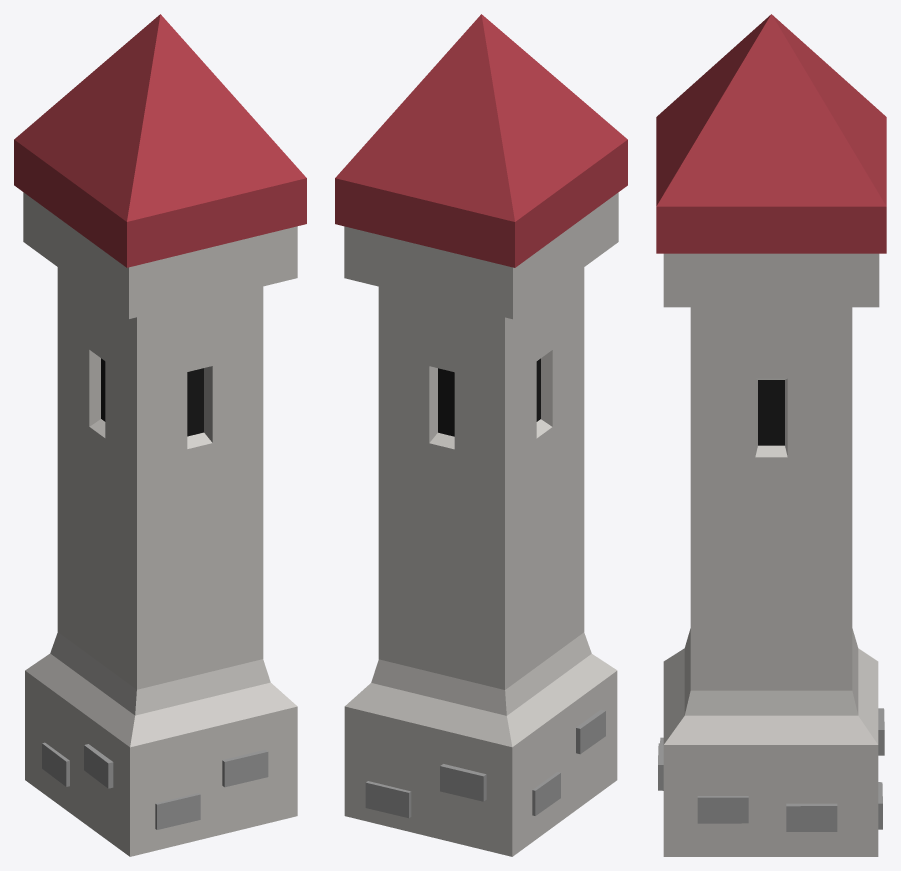
The model's file is SimpleTowerBricks.glb.
The picture shows the model from 3 angles, left to right: view 1: azimuth 30°, elevation 25°; view 2: azimuth 150°, elevation 25°; view 3: azimuth 270°, elevation 25°; orthographic projection. The views are drawn at different scales.
Visible parts, largest first — view 1: SimpleTowerBricks; view 2: SimpleTowerBricks; view 3: SimpleTowerBricks.
Boxes of the visible parts, x1,y1,x2,y2 form: SimpleTowerBricks: (14,14,306,856); SimpleTowerBricks: (335,14,627,856); SimpleTowerBricks: (656,14,886,856).
Size of the model in its own units: 0.6397 by 2.66 by 0.6943.
